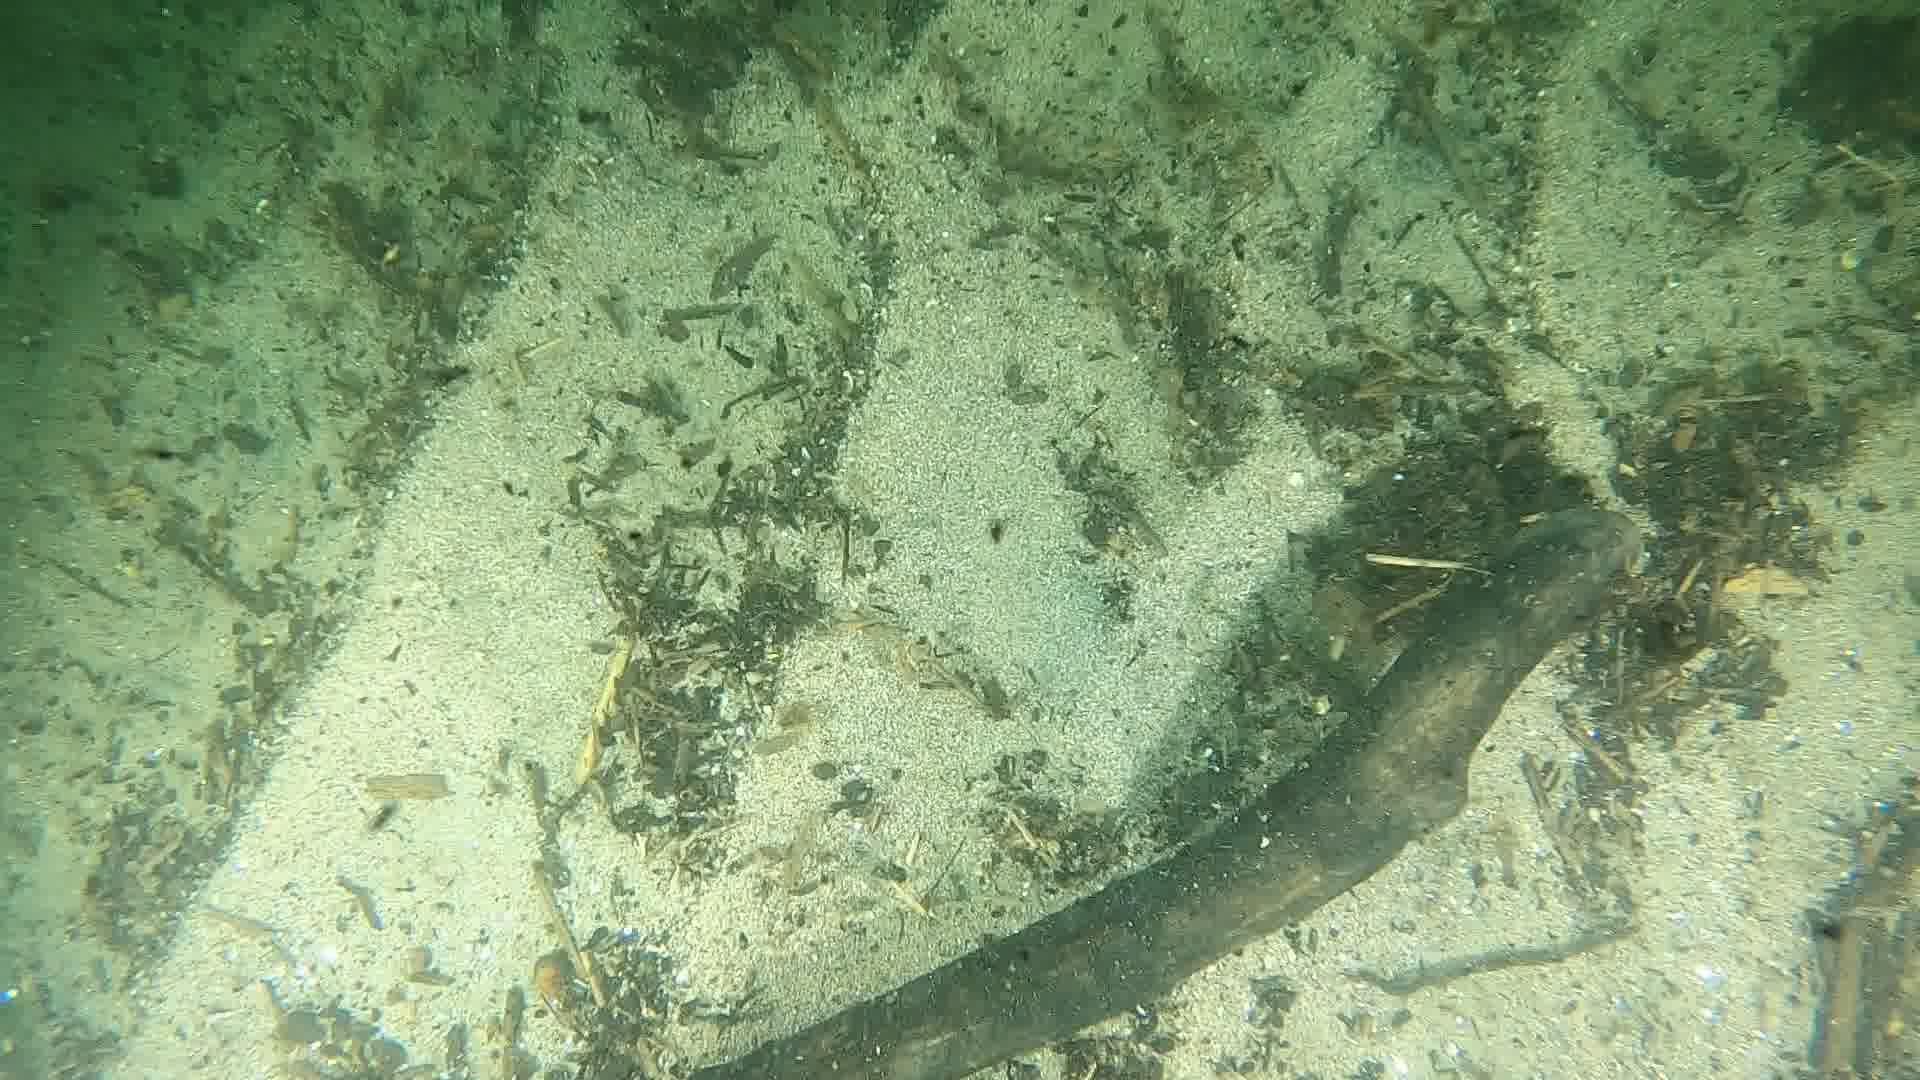wood: (686, 508, 1643, 1080)
